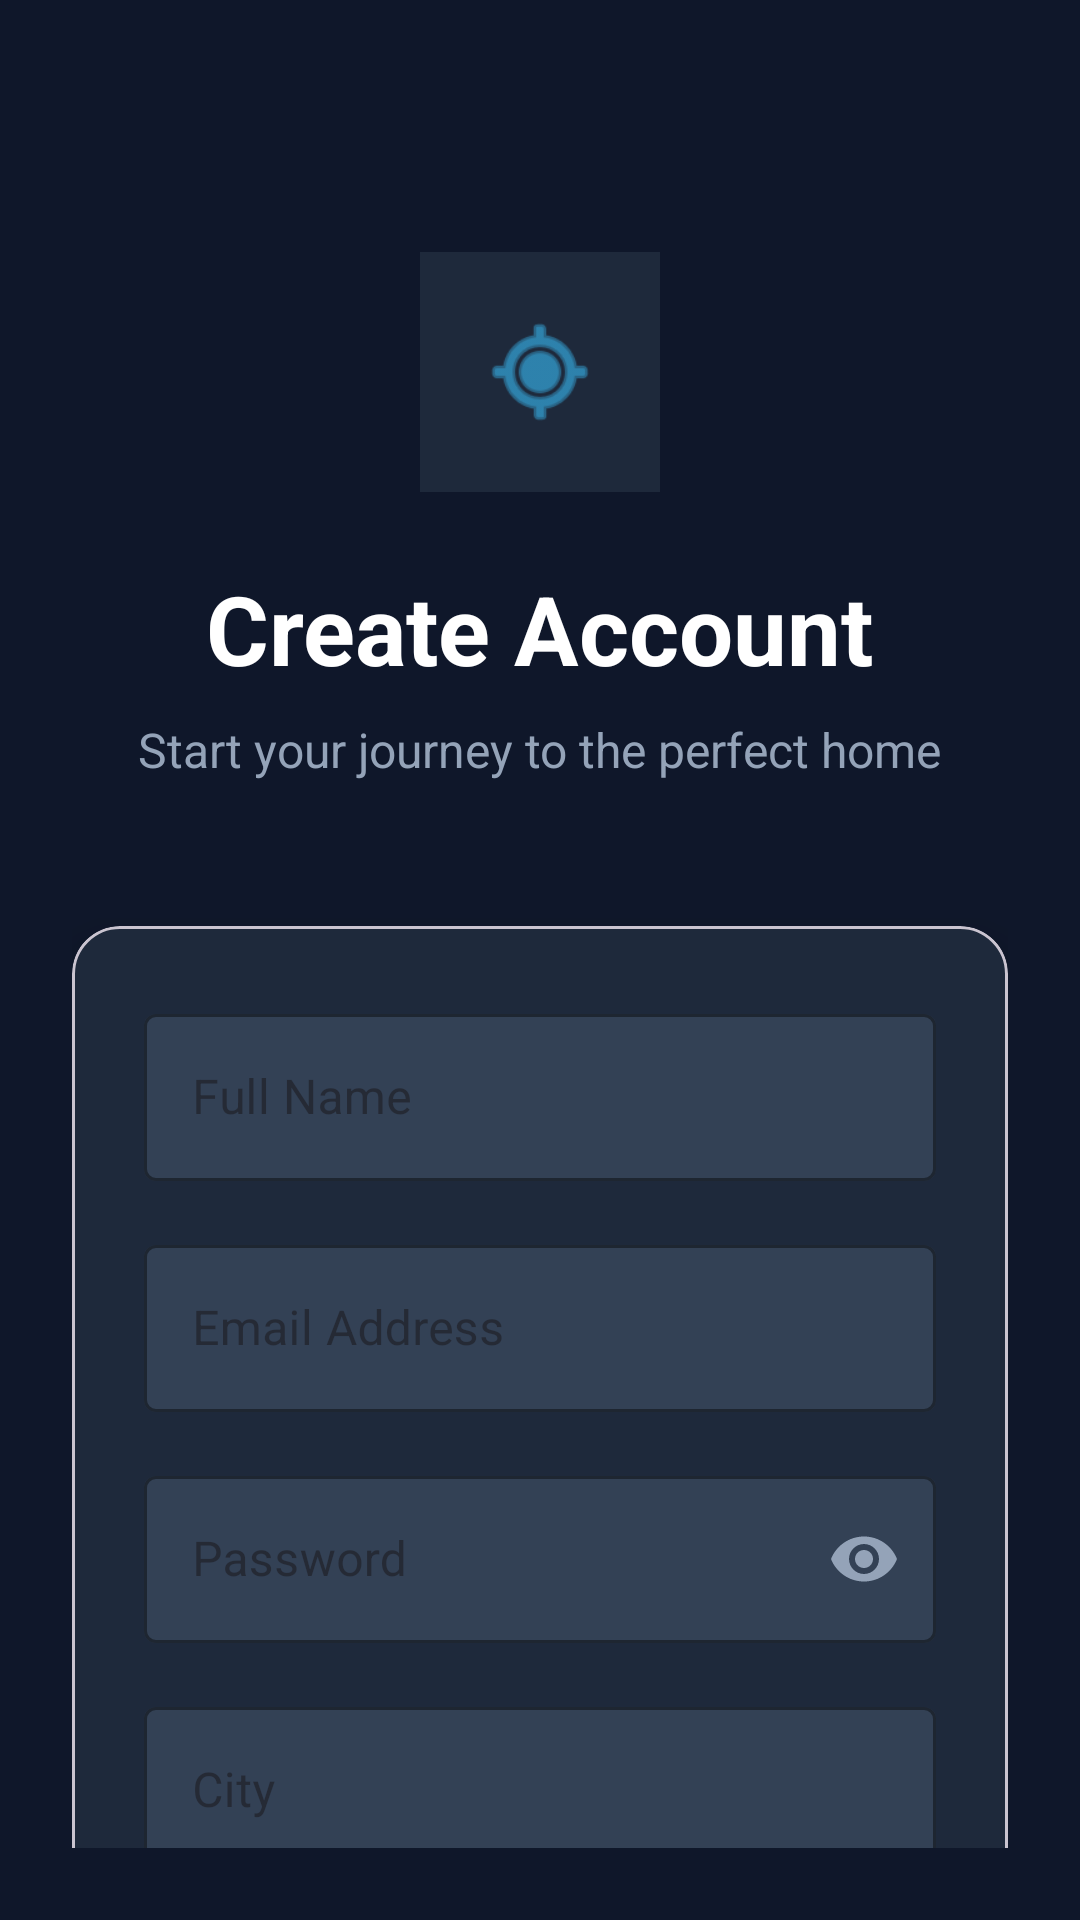

Icon click points for this 1080w x 1920h phone screenshot, format point (x, y):
mylocation: point (540, 372)
